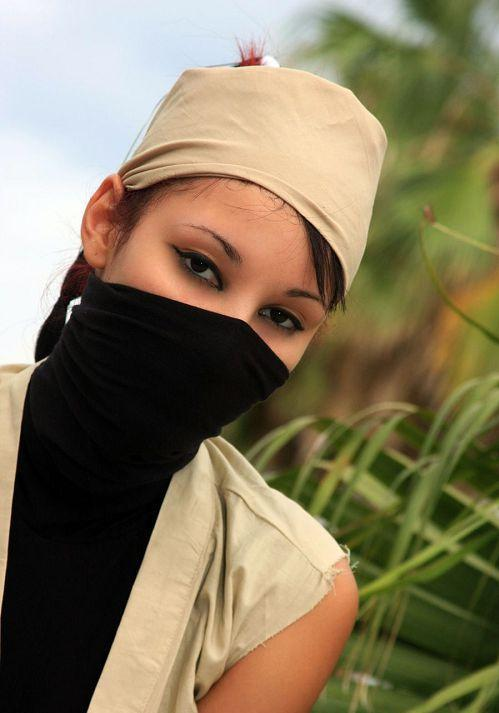OK: (91, 212, 314, 435)
